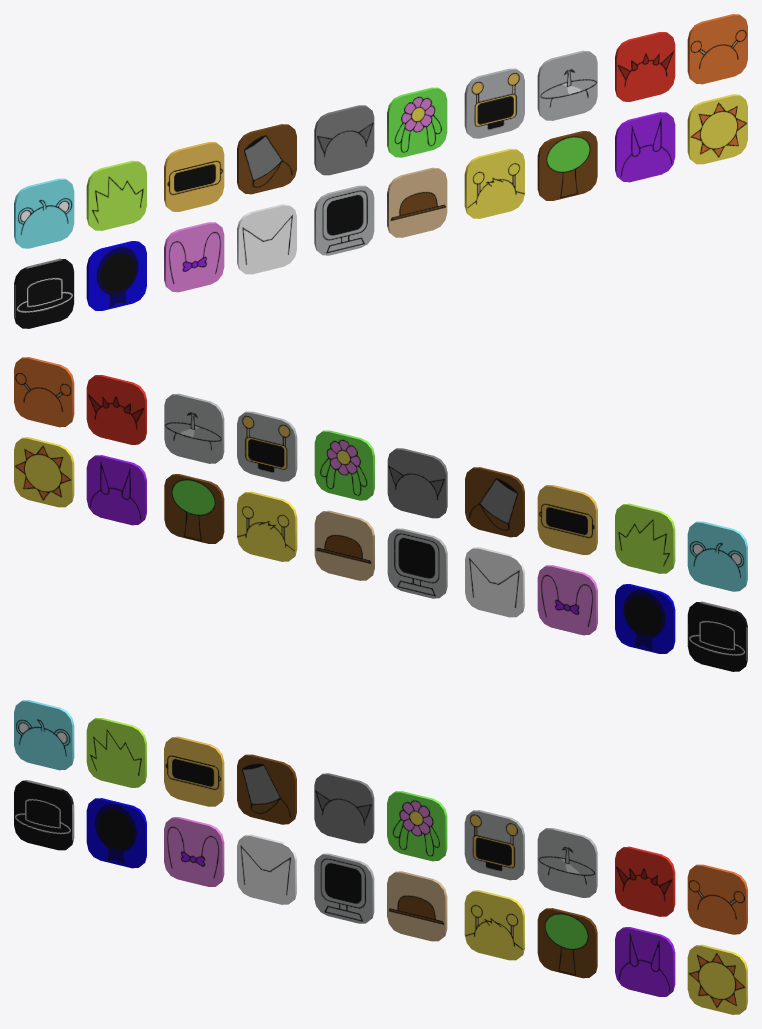
The model's file is sprunki cards.fbx.
3 views of the same model, one above another, from view 1: azimuth 30°, elevation 25°; view 2: azimuth 150°, elevation 25°; view 3: azimuth 330°, elevation 25° (orthographic).
Visible parts, largest first — view 1: Cube.001, Cube.006, Cube.013, Cube.016, Cube.008, Cube, Cube.005, Cube.018, Cube.009, Cube.012, Cube.017, Cube.010 (+8 smaller); view 2: Cube.001, Cube.006, Cube.013, Cube.016, Cube.008, Cube, Cube.005, Cube.018, Cube.009, Cube.012, Cube.017, Cube.010 (+8 smaller); view 3: Cube.005, Cube.009, Cube.014, Cube.018, Cube, Cube.008, Cube.013, Cube.016, Cube.001, Cube.004, Cube.019, Cube.002 (+8 smaller).
Part boxes in pixels (left/top/right/bottom): Cube.001: left=387, top=87, right=447, bottom=157; Cube.006: left=464, top=68, right=524, bottom=138; Cube.013: left=687, top=94, right=747, bottom=164; Cube.016: left=14, top=178, right=74, bottom=248; Cube.008: left=314, top=185, right=374, bottom=255; Cube: left=314, top=105, right=374, bottom=175; Cube.005: left=687, top=14, right=747, bottom=84; Cube.018: left=14, top=258, right=74, bottom=328; Cube.009: left=387, top=167, right=447, bottom=237; Cube.012: left=615, top=112, right=675, bottom=182; Cube.017: left=86, top=160, right=146, bottom=230; Cube.010: left=164, top=222, right=224, bottom=292; Cube.001: left=314, top=430, right=374, bottom=500; Cube.006: left=237, top=411, right=297, bottom=481; Cube.013: left=14, top=437, right=74, bottom=507; Cube.016: left=687, top=521, right=747, bottom=591; Cube.008: left=387, top=528, right=447, bottom=598; Cube: left=387, top=448, right=447, bottom=518; Cube.005: left=14, top=357, right=74, bottom=427; Cube.018: left=687, top=601, right=747, bottom=671; Cube.009: left=314, top=510, right=374, bottom=580; Cube.012: left=86, top=455, right=146, bottom=525; Cube.017: left=615, top=503, right=675, bottom=573; Cube.010: left=537, top=565, right=597, bottom=635; Cube.005: left=687, top=864, right=747, bottom=934; Cube.009: left=387, top=871, right=447, bottom=941; Cube.014: left=464, top=890, right=524, bottom=960; Cube.018: left=14, top=780, right=74, bottom=850; Cube: left=314, top=773, right=374, bottom=843; Cube.008: left=314, top=853, right=374, bottom=923; Cube.013: left=687, top=944, right=747, bottom=1014; Cube.016: left=14, top=700, right=74, bottom=770; Cube.001: left=387, top=791, right=447, bottom=861; Cube.004: left=615, top=846, right=675, bottom=916; Cube.019: left=86, top=798, right=146, bottom=868; Cube.002: left=164, top=736, right=224, bottom=806.
Size of the model in its own units: 2508 by 463 by 10.82.
Materials: 1 (1 with a texture image).
